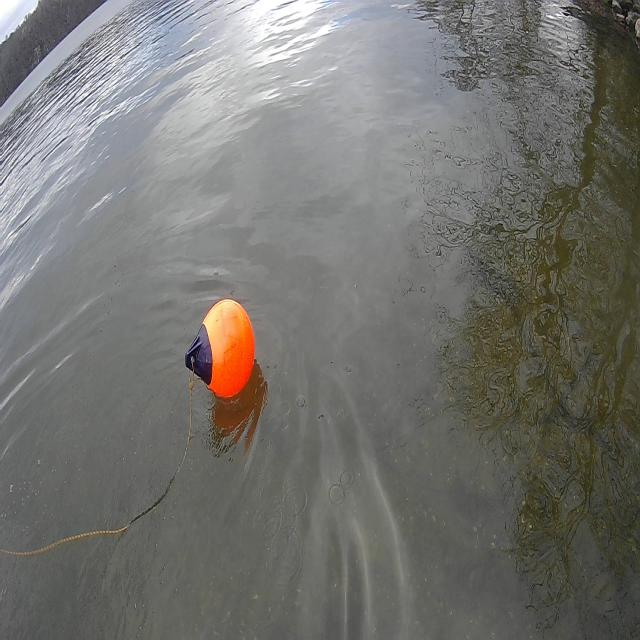Buoy: (204, 298, 256, 400)
